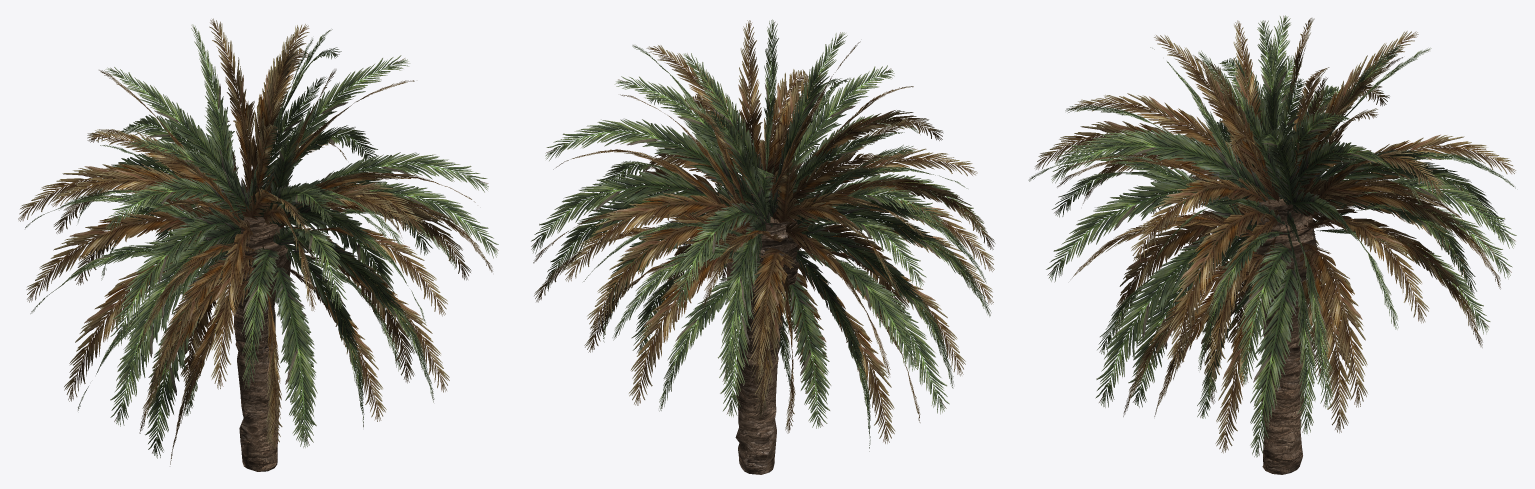
3 views of the same model, side by side, from view 1: azimuth 30°, elevation 25°; view 2: azimuth 150°, elevation 25°; view 3: azimuth 270°, elevation 25° (orthographic). The views are drawn at different scales.
Parts seen in each view (by area): view 1: SM_pal_b03_tree_africanVegetationPlam_04.mo; view 2: SM_pal_b03_tree_africanVegetationPlam_04.mo; view 3: SM_pal_b03_tree_africanVegetationPlam_04.mo.
Boxes of the visible parts, x1=… form: SM_pal_b03_tree_africanVegetationPlam_04.mo: x1=18, y1=18, x2=498, y2=471; SM_pal_b03_tree_africanVegetationPlam_04.mo: x1=531, y1=19, x2=995, y2=474; SM_pal_b03_tree_africanVegetationPlam_04.mo: x1=1028, y1=15, x2=1516, y2=474.
Bounding box in the file's own units: 571 × 558 × 578.
